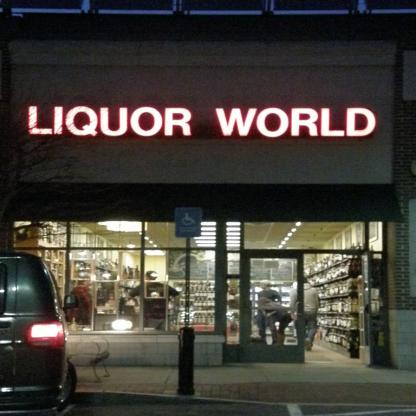Car: (1, 251, 79, 416)
